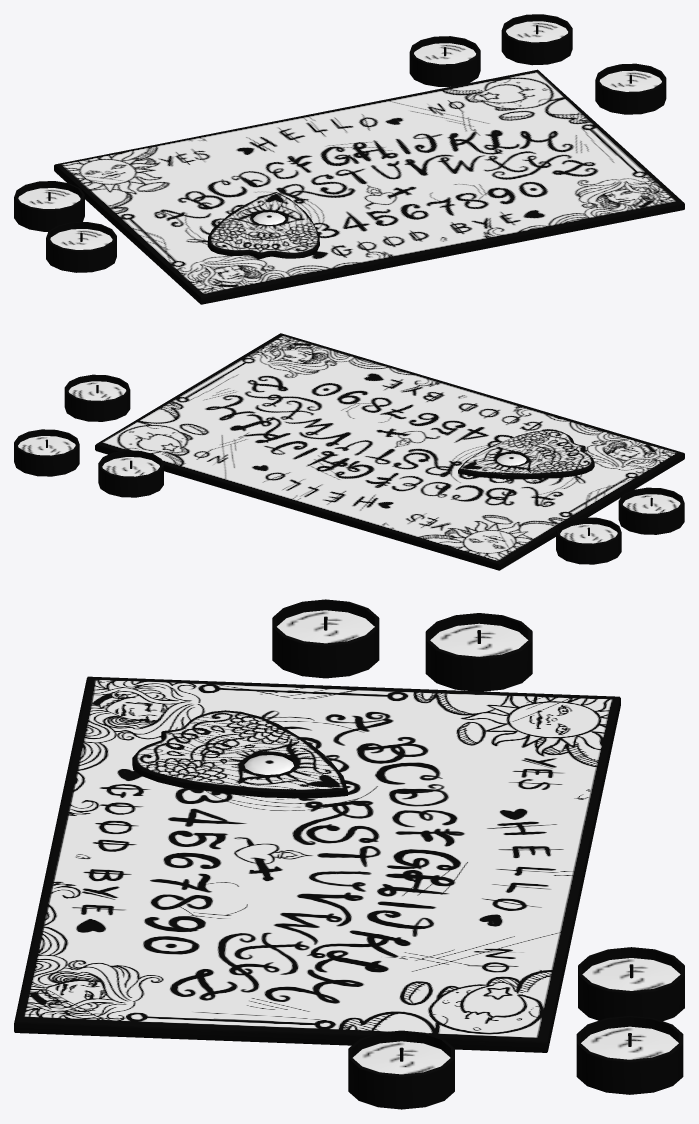
File: Day26Dark.fbx
3 views of the same model, one above another, from view 1: azimuth 30°, elevation 25°; view 2: azimuth 150°, elevation 25°; view 3: azimuth 270°, elevation 25° (orthographic). The views are drawn at different scales.
Visible parts, largest first — view 1: board, planchette, candle1, candle2, candle, candle4, candle3; view 2: board, planchette, candle1, candle4, candle2, candle3, candle; view 3: board, planchette, candle4, candle2, candle3, candle1, candle.
Part boxes in pixels (x1,y1,x2,y2): board: (54,69,684,304); planchette: (207,192,319,259); candle1: (595,63,666,114); candle2: (501,14,572,65); candle: (409,36,480,86); candle4: (46,222,116,272); candle3: (14,181,84,231); board: (95,333,684,570); planchette: (458,430,594,479); candle1: (64,374,130,421); candle4: (618,487,684,534); candle2: (14,429,79,476); candle3: (556,517,621,564); candle: (98,450,163,497); board: (14,676,620,1052); planchette: (132,710,347,798); candle4: (272,599,379,678); candle2: (576,1016,683,1094); candle3: (425,613,532,691); candle1: (348,1030,454,1109); candle: (578,947,684,1020).
Size of the model in its own units: 61.11 by 2.37 by 36.3.
Materials: 1 (1 with a texture image).
